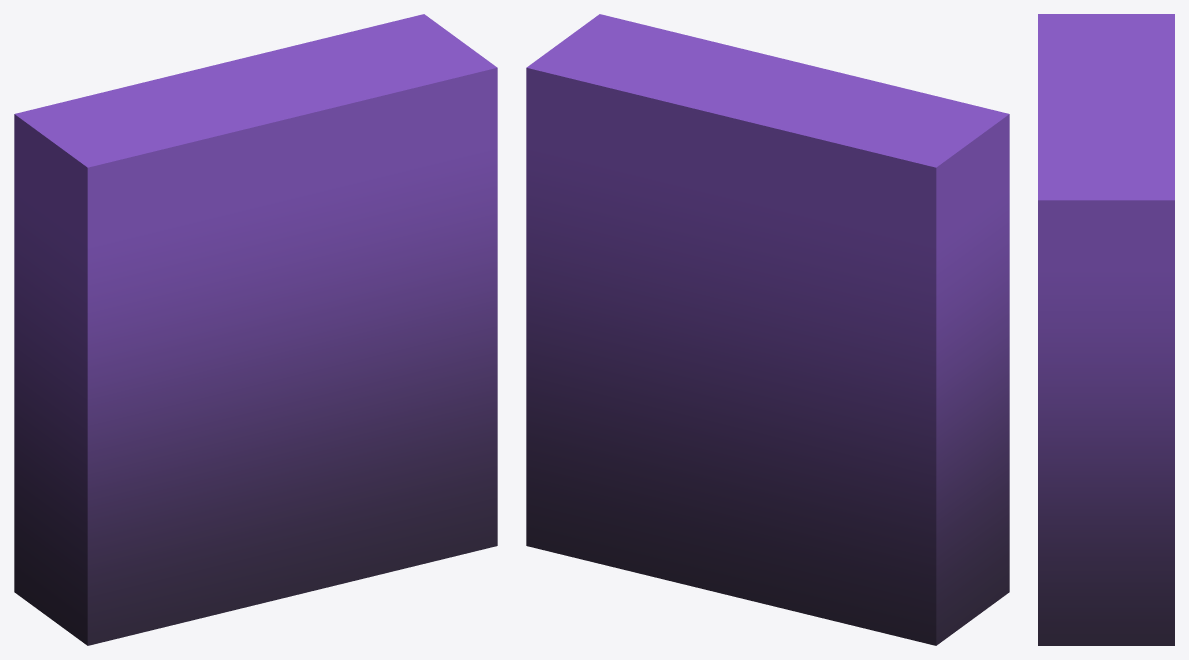
The model's file is Plat01.007.glb.
3 renders of one model, left to right at view 1: azimuth 30°, elevation 25°; view 2: azimuth 150°, elevation 25°; view 3: azimuth 270°, elevation 25°, orthographic. The views are drawn at different scales.
Visible parts, largest first — view 1: Plat01.007; view 2: Plat01.007; view 3: Plat01.007.
Part boxes in pixels (box(x1,y1,x2,y2)): Plat01.007: box(14, 14, 497, 645); Plat01.007: box(526, 14, 1009, 645); Plat01.007: box(1038, 14, 1174, 645).
Size of what is drawn, in the model's own units: 6.45 by 7.19 by 2.
Materials: 1 (1 with a texture image).
